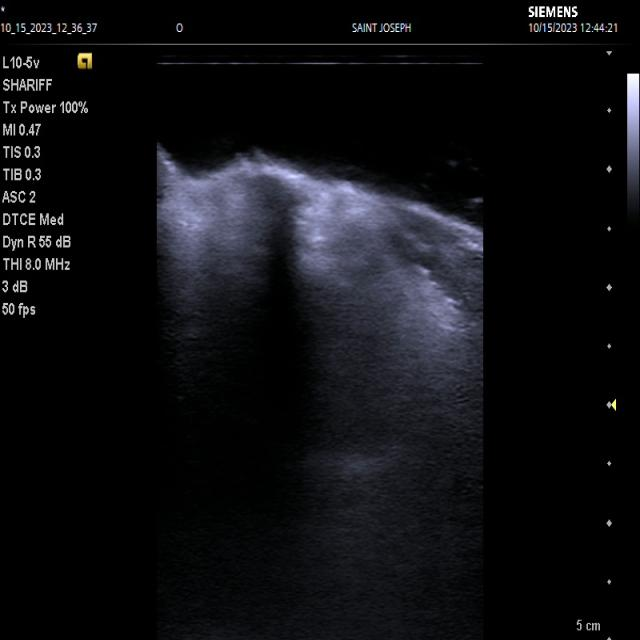tissue: (205, 162, 426, 470)
